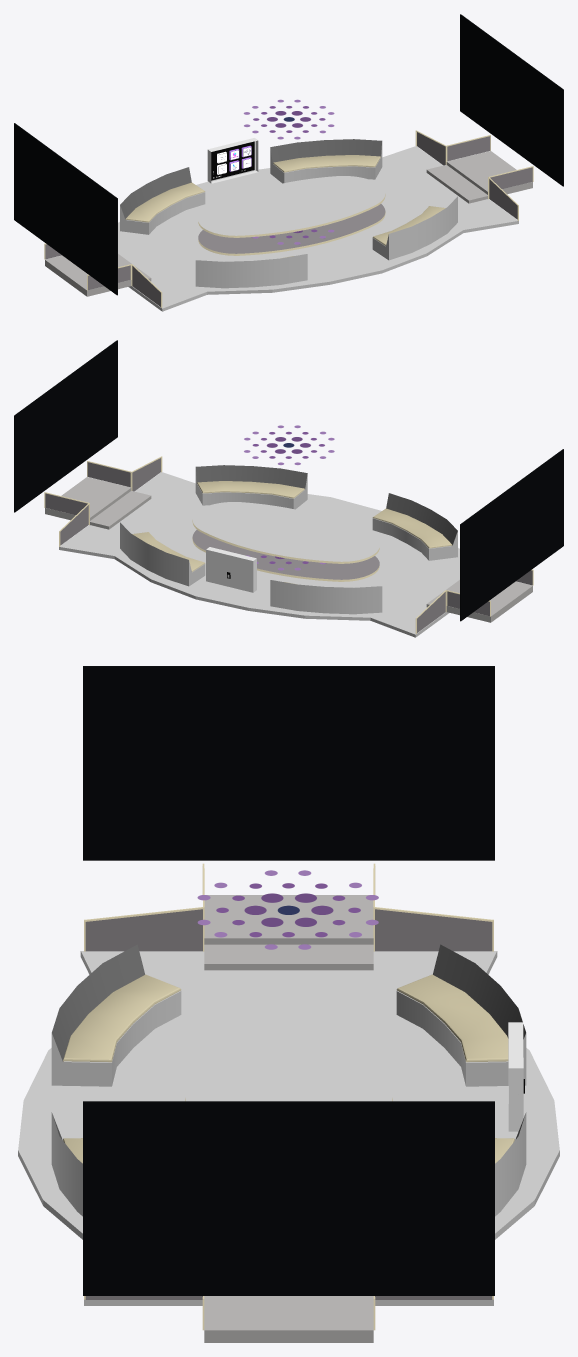
The model's file is corporativeMode3.glb.
3 views of the same model, one above another, from view 1: azimuth 30°, elevation 25°; view 2: azimuth 150°, elevation 25°; view 3: azimuth 270°, elevation 25° (orthographic). The views are drawn at different scales.
Parts seen in each view (by area): view 1: p05_floor, p05_sofa, p05_tv_001, p05_tv_002.001, p05_tablev2_001, p05_stairs_001.001, p05_glass_floor, p05_railing_001, p05_railing_002, p05_buttonsz_01, p05_logo_MRCgroup.002, p05_buttonsz_02 (+1 smaller); view 2: p05_floor, p05_sofa, p05_tv_001, p05_tv_002.001, p05_tablev2_001, p05_stairs_001.001, p05_glass_floor, p05_buttonsz_02, p05_railing_001, p05_railing_002, p05_logo_MRCgroup.002, p05_railing_003; view 3: p05_tv_001, p05_tv_002.001, p05_floor, p05_sofa, p05_stairs_001.001, p05_tablev2_001, p05_railing_002, p05_logo_MRCgroup.002, p05_buttonsz_02, p05_railing_003.
Part boxes in pixels (bbox=[...]): p05_floor: bbox=[118, 146, 518, 311]; p05_sofa: bbox=[120, 139, 457, 288]; p05_tv_001: bbox=[460, 14, 563, 186]; p05_tv_002.001: bbox=[14, 123, 117, 295]; p05_tablev2_001: bbox=[198, 176, 385, 237]; p05_stairs_001.001: bbox=[45, 151, 532, 296]; p05_glass_floor: bbox=[198, 204, 385, 255]; p05_railing_001: bbox=[45, 136, 532, 290]; p05_railing_002: bbox=[132, 132, 517, 306]; p05_buttonsz_01: bbox=[211, 141, 254, 180]; p05_logo_MRCgroup.002: bbox=[243, 99, 334, 139]; p05_buttonsz_02: bbox=[207, 138, 258, 183]; p05_floor: bbox=[59, 472, 459, 637]; p05_sofa: bbox=[120, 465, 457, 614]; p05_tv_001: bbox=[14, 340, 117, 512]; p05_tv_002.001: bbox=[460, 449, 563, 621]; p05_tablev2_001: bbox=[192, 502, 379, 563]; p05_stairs_001.001: bbox=[45, 477, 532, 622]; p05_glass_floor: bbox=[192, 530, 379, 581]; p05_buttonsz_02: bbox=[206, 547, 256, 592]; p05_railing_001: bbox=[45, 462, 532, 616]; p05_railing_002: bbox=[60, 458, 445, 632]; p05_logo_MRCgroup.002: bbox=[244, 425, 334, 465]; p05_railing_003: bbox=[59, 456, 446, 633]; p05_tv_001: bbox=[83, 1101, 494, 1295]; p05_tv_002.001: bbox=[83, 666, 494, 860]; p05_floor: bbox=[18, 951, 559, 1305]; p05_sofa: bbox=[51, 944, 526, 1216]; p05_stairs_001.001: bbox=[204, 895, 373, 1342]; p05_tablev2_001: bbox=[185, 1001, 392, 1101]; p05_railing_002: bbox=[85, 909, 492, 1299]; p05_logo_MRCgroup.002: bbox=[197, 870, 378, 949]; p05_buttonsz_02: bbox=[508, 1022, 523, 1131]; p05_railing_003: bbox=[84, 907, 493, 1299].
Size of what is drawn, in the model's own units: 28.16 by 7.44 by 14.78.
6 materials, 6 textured.
